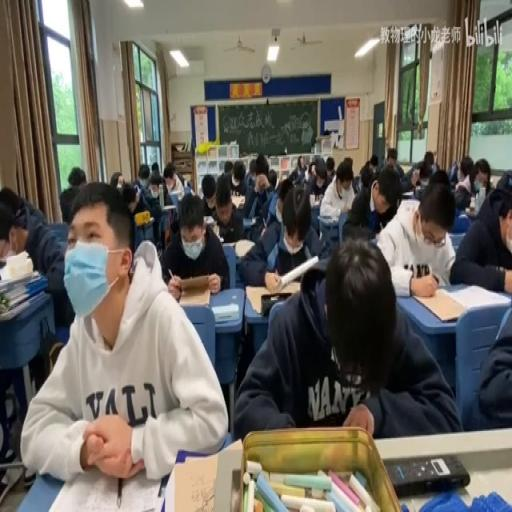calculator: (45, 458, 165, 512), (170, 452, 220, 512), (446, 282, 508, 312), (243, 283, 300, 314), (0, 287, 46, 321), (0, 267, 38, 294), (177, 283, 209, 306), (212, 302, 238, 324), (234, 238, 257, 258), (402, 196, 424, 214), (246, 195, 260, 220), (318, 213, 340, 226), (242, 215, 256, 226), (220, 240, 235, 249), (310, 195, 321, 206), (464, 206, 477, 215), (400, 191, 414, 199), (418, 176, 428, 186), (162, 204, 175, 210), (218, 236, 224, 242)
paper: (233, 234, 453, 440), (0, 180, 70, 486), (374, 179, 458, 290), (238, 181, 324, 287), (161, 192, 229, 292), (132, 169, 166, 245), (59, 166, 88, 224), (341, 189, 374, 239), (452, 155, 480, 208), (302, 154, 332, 198), (403, 151, 435, 192), (226, 158, 248, 203), (199, 174, 218, 224), (0, 186, 26, 222), (162, 160, 184, 200), (275, 178, 294, 210), (493, 172, 512, 202), (288, 155, 307, 183), (427, 166, 450, 186), (120, 180, 136, 208), (216, 182, 230, 209), (266, 192, 278, 222), (359, 168, 375, 189), (138, 162, 150, 189), (109, 171, 122, 189), (266, 168, 277, 189), (350, 174, 360, 192), (478, 174, 490, 189), (222, 158, 232, 175), (149, 175, 162, 188), (248, 158, 257, 176), (150, 160, 159, 178), (342, 156, 353, 170), (386, 148, 396, 163), (370, 155, 378, 171), (183, 180, 192, 194), (308, 162, 316, 176), (430, 160, 438, 170)
person: (386, 454, 470, 496), (230, 468, 242, 510)
